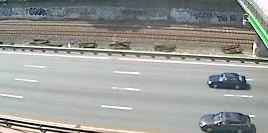car: (197, 107, 254, 132), (204, 69, 248, 92)
